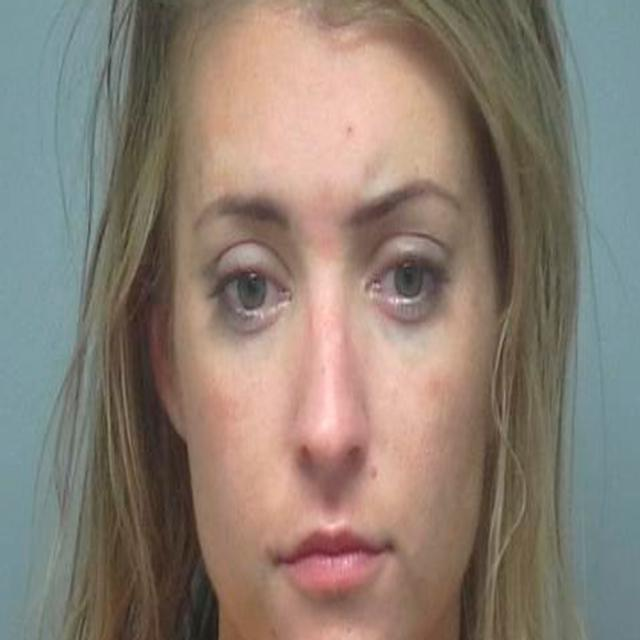human: (65, 2, 606, 640)
